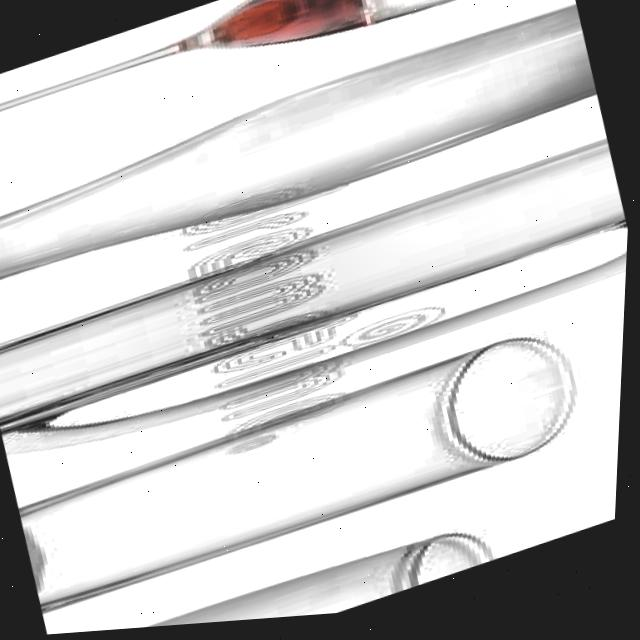glass: (0, 146, 630, 457), (0, 17, 598, 279), (22, 350, 581, 616), (0, 0, 477, 112), (141, 540, 506, 630)
